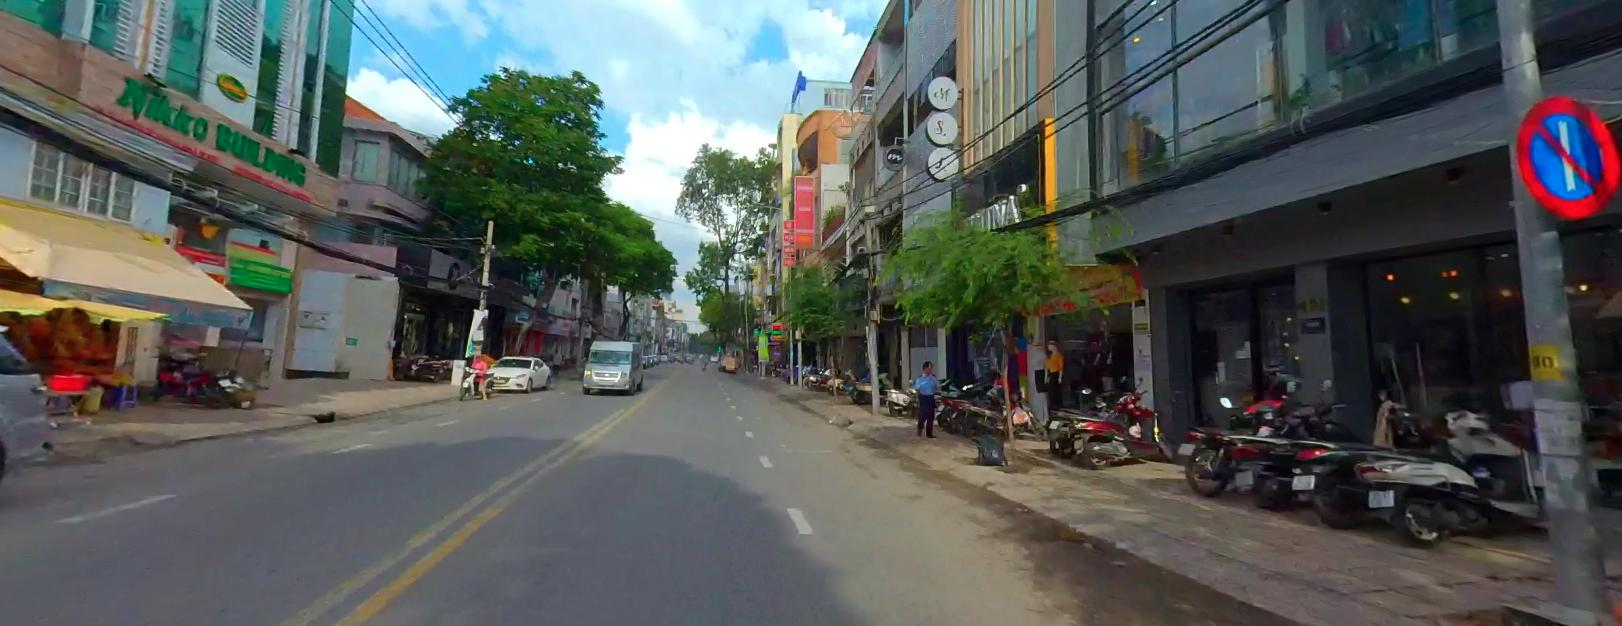Cam dung va do: (1514, 91, 1621, 217)
